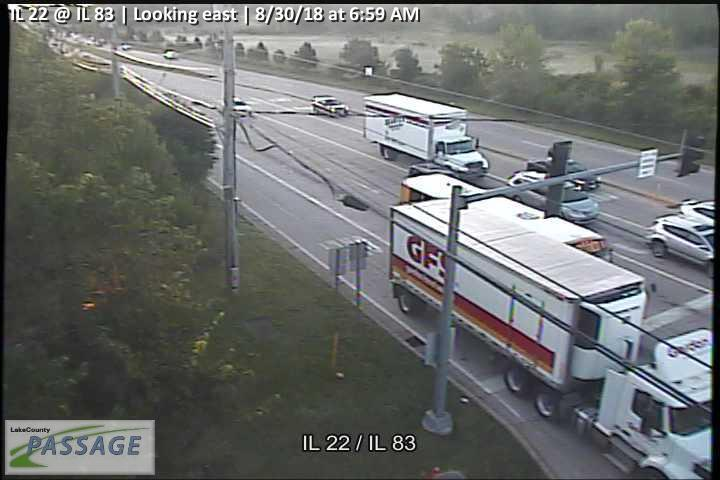Sedan: (505, 170, 602, 226), (642, 211, 718, 277), (523, 155, 601, 191), (312, 96, 351, 118)
Truck: (388, 195, 718, 480), (399, 170, 657, 340), (362, 93, 488, 179)
